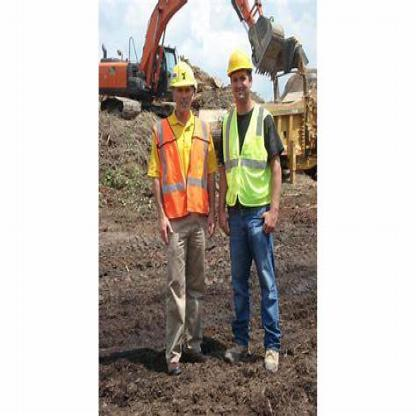person: (217, 41, 288, 390), (142, 60, 206, 372)
